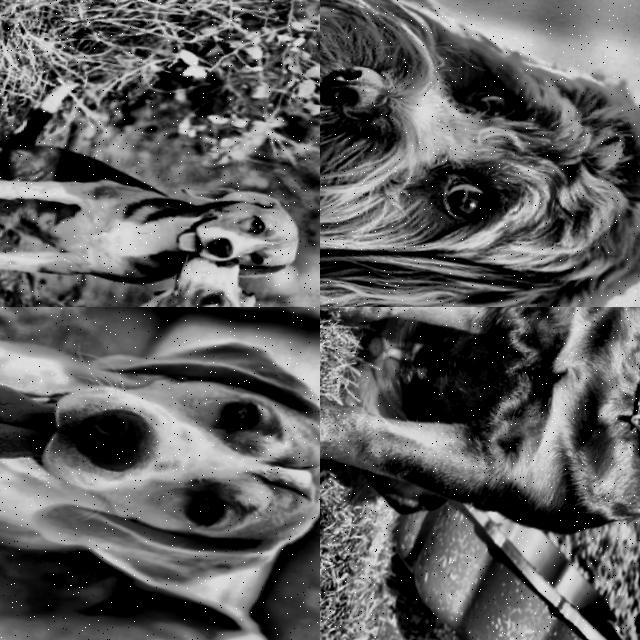beagle: (0, 307, 320, 640), (150, 158, 320, 307), (74, 225, 282, 307)
poodle: (320, 0, 640, 307)
